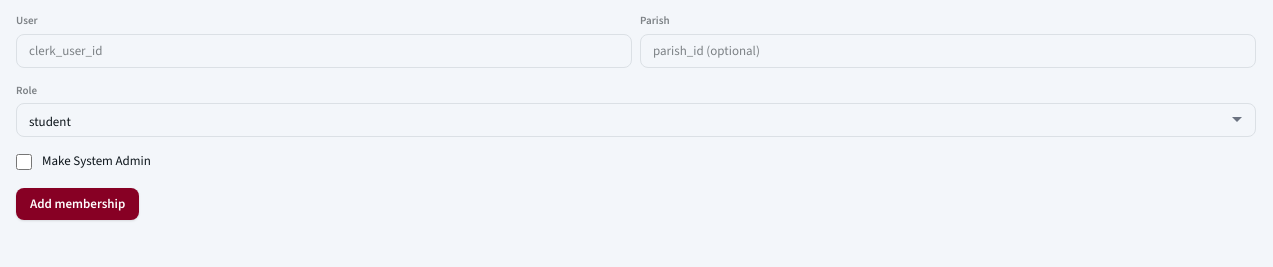
Scenario: AdminMembershipForm › shows error when membership request rejects
Click the button "Add membership". click: [78, 204]
box: top-left (16, 188), bottom-right (139, 220)
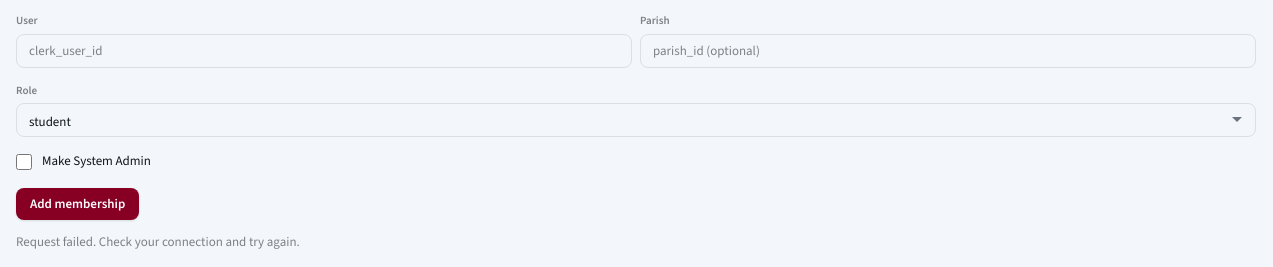
Expected: the text "Request failed. Check your connection and try again." is shown, top-left (16, 233), bottom-right (300, 250)
